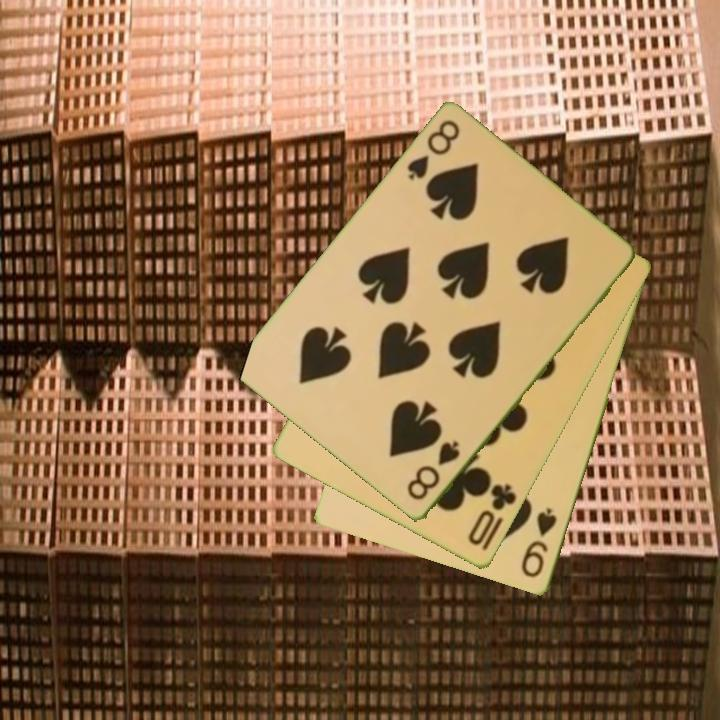10c: (464, 481, 520, 549)
8s: (403, 437, 464, 504), (403, 117, 463, 184)
9s: (518, 505, 561, 581)
